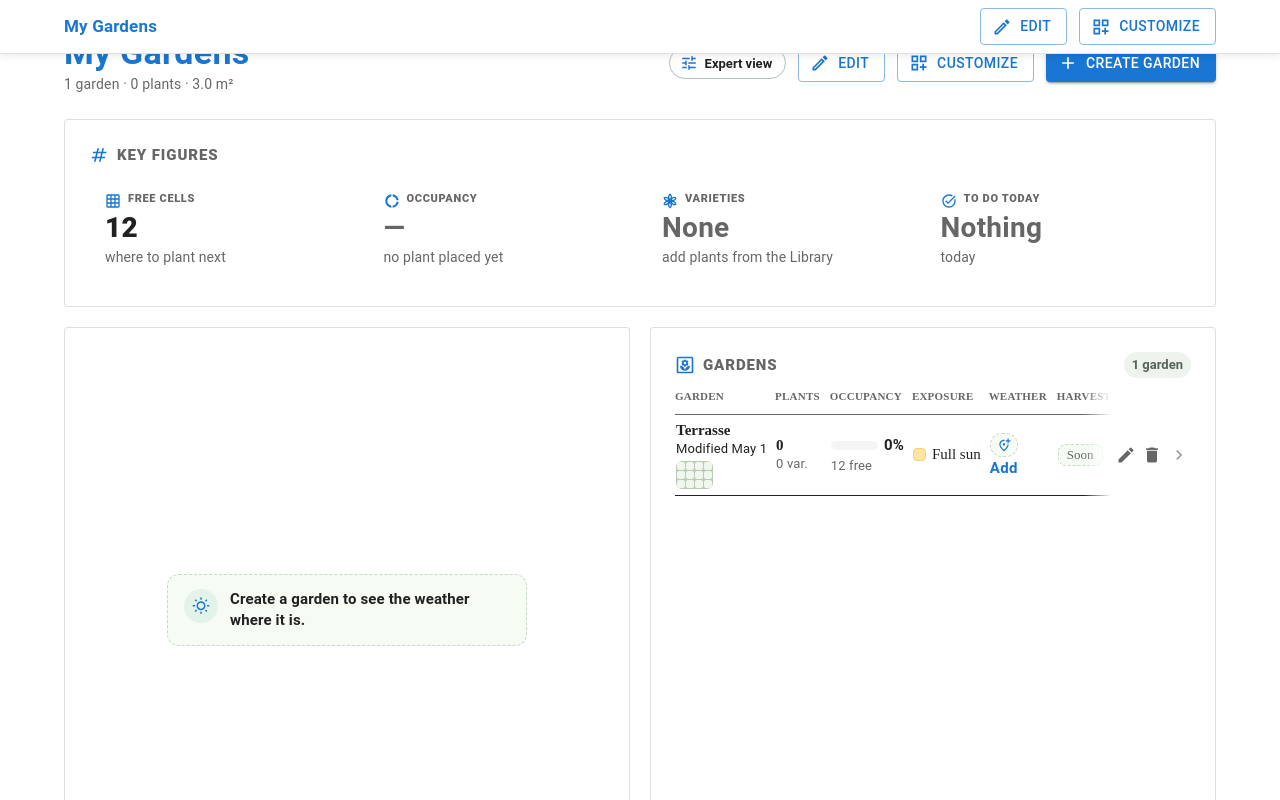
the compact action bar in Edit mode (SMA-437, lot V39, B5) › says a failed save in the copy too
Click the 1st button "Edit" at point(1024, 27), box [980,8,1067,45]
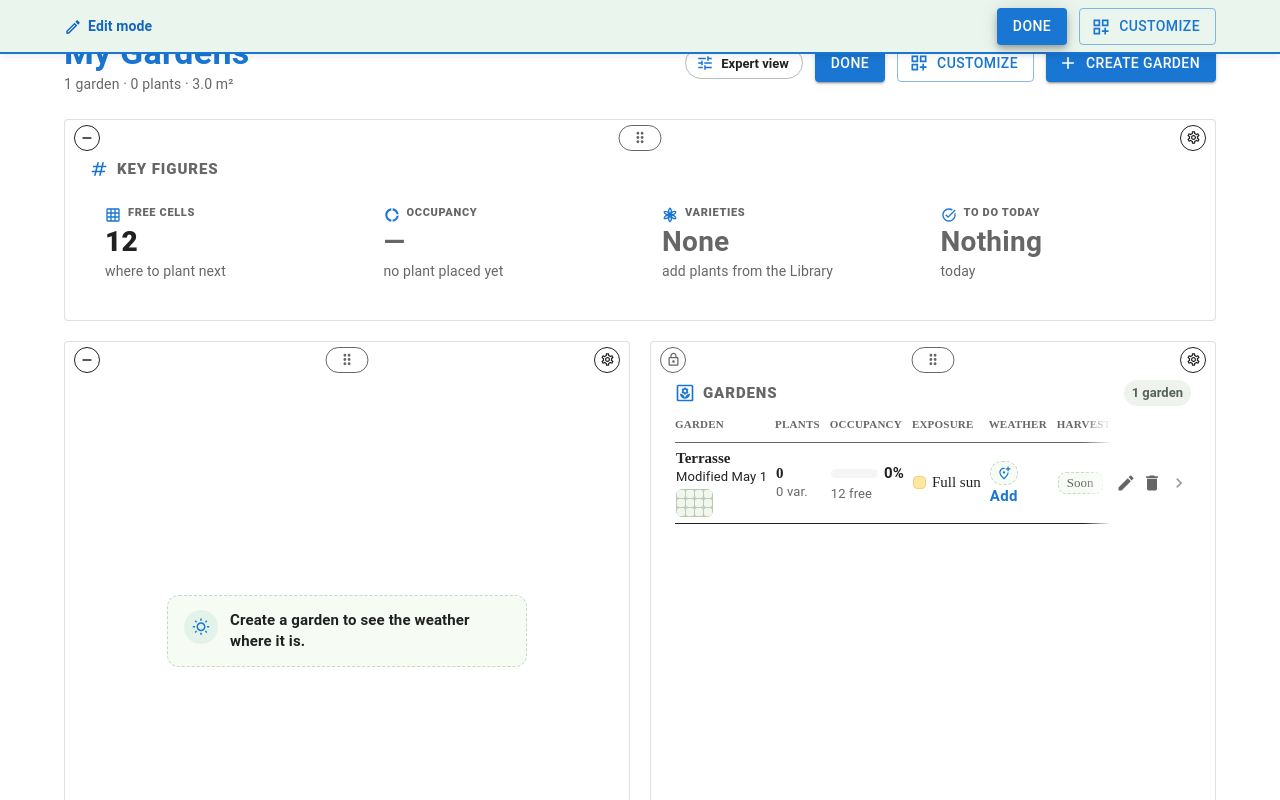
Click the button named "Hide " at point(87, 138), box [74,125,100,151]
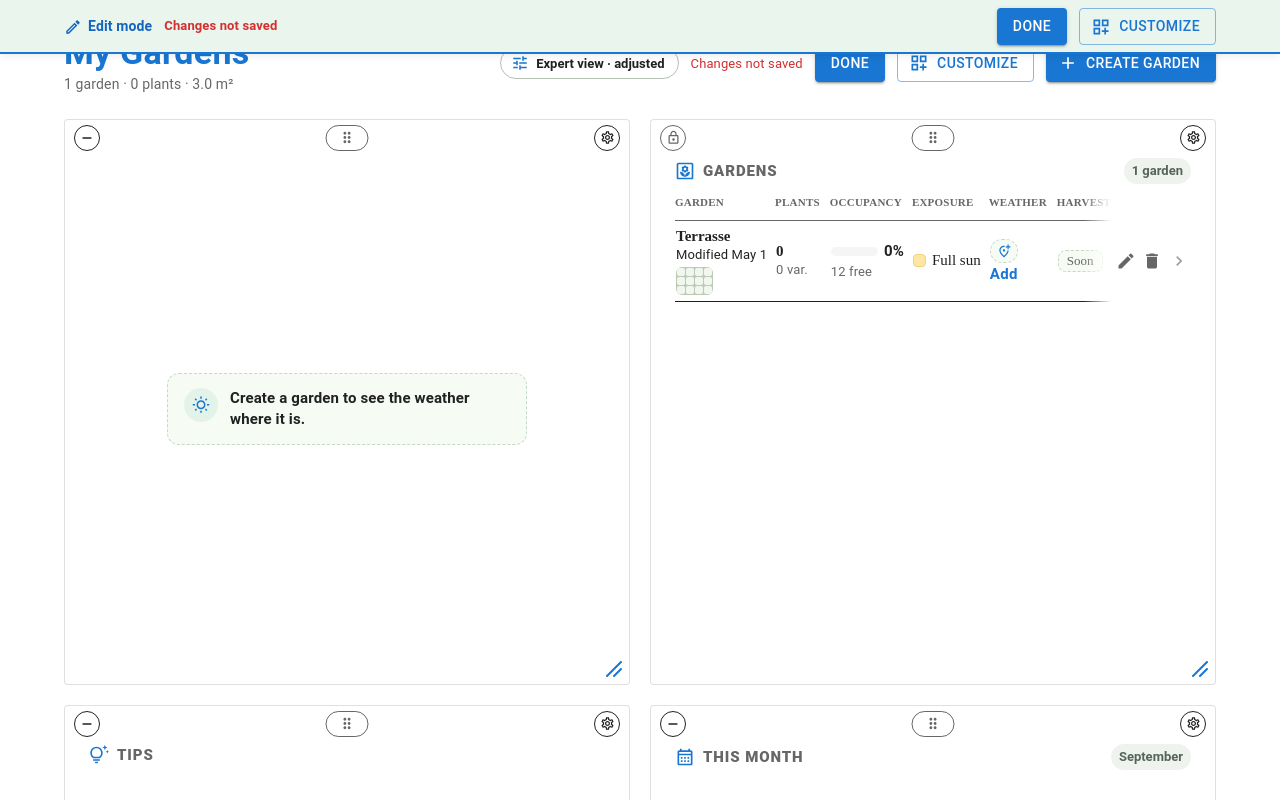
Expected: the message "Changes not saved" is shown, [690,54,803,73]
Expected: the text "Changes not saved" is shown, [164,18,278,35]
